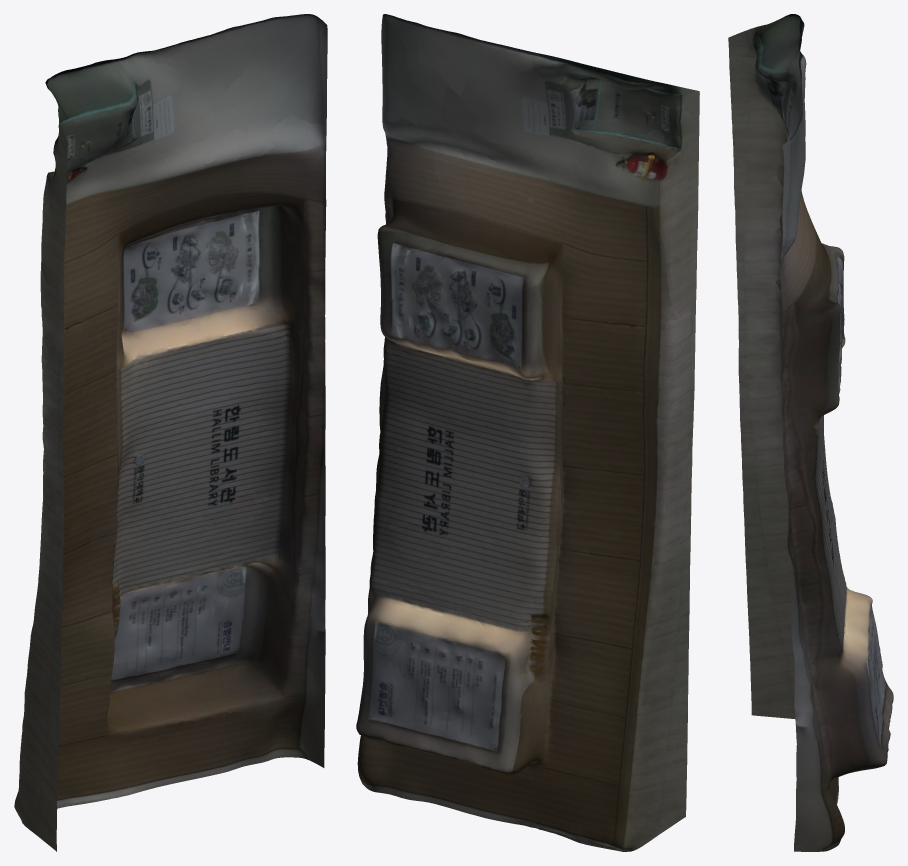
The model's file is 수정정문메인.fbx.
3 renders of one model, left to right at view 1: azimuth 30°, elevation 25°; view 2: azimuth 150°, elevation 25°; view 3: azimuth 270°, elevation 25°, orthographic. The views are drawn at different scales.
Visible parts, largest first — view 1: Untitled; view 2: Untitled; view 3: Untitled.
Part boxes in pixels (x1,y1,x2,y2): Untitled: [14, 14, 327, 851]; Untitled: [356, 14, 699, 851]; Untitled: [728, 14, 893, 851].
Bounding box in the file's own units: 42.89 × 106 × 22.11.
1 material, 1 textured.
